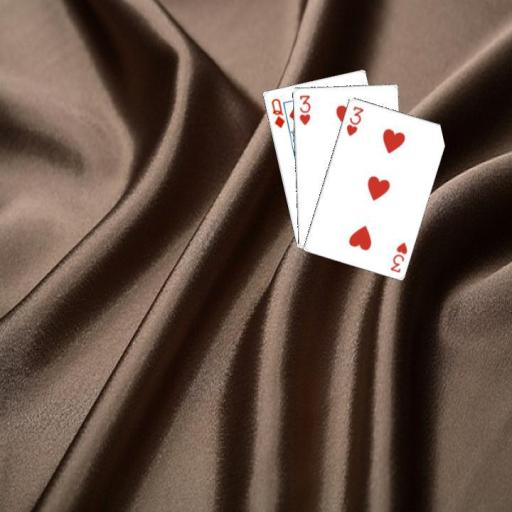3H: (387, 239, 409, 274), (343, 103, 365, 137), (296, 92, 311, 127)
QD: (268, 96, 286, 130)
